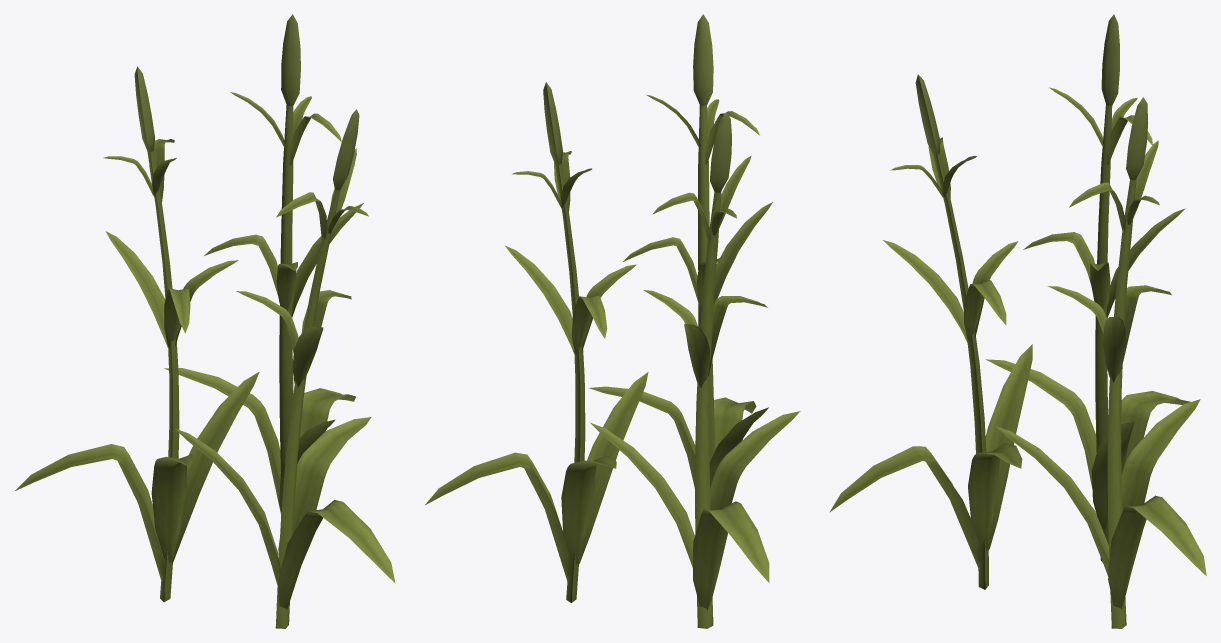
File: Crop_Wheat_Stage_04.fbx
3 renders of one model, left to right at view 1: azimuth 30°, elevation 25°; view 2: azimuth 150°, elevation 25°; view 3: azimuth 270°, elevation 25°, orthographic. The views are drawn at different scales.
Parts seen in each view (by area): view 1: Wheat_Stage_04; view 2: Wheat_Stage_04; view 3: Wheat_Stage_04.
Boxes of the visible parts, box(x1,y1,x2,y2) form: Wheat_Stage_04: box(15, 14, 395, 628); Wheat_Stage_04: box(425, 14, 800, 628); Wheat_Stage_04: box(829, 14, 1206, 628).
Bounding box in the file's own units: 52.15 × 77.1 × 49.17.
